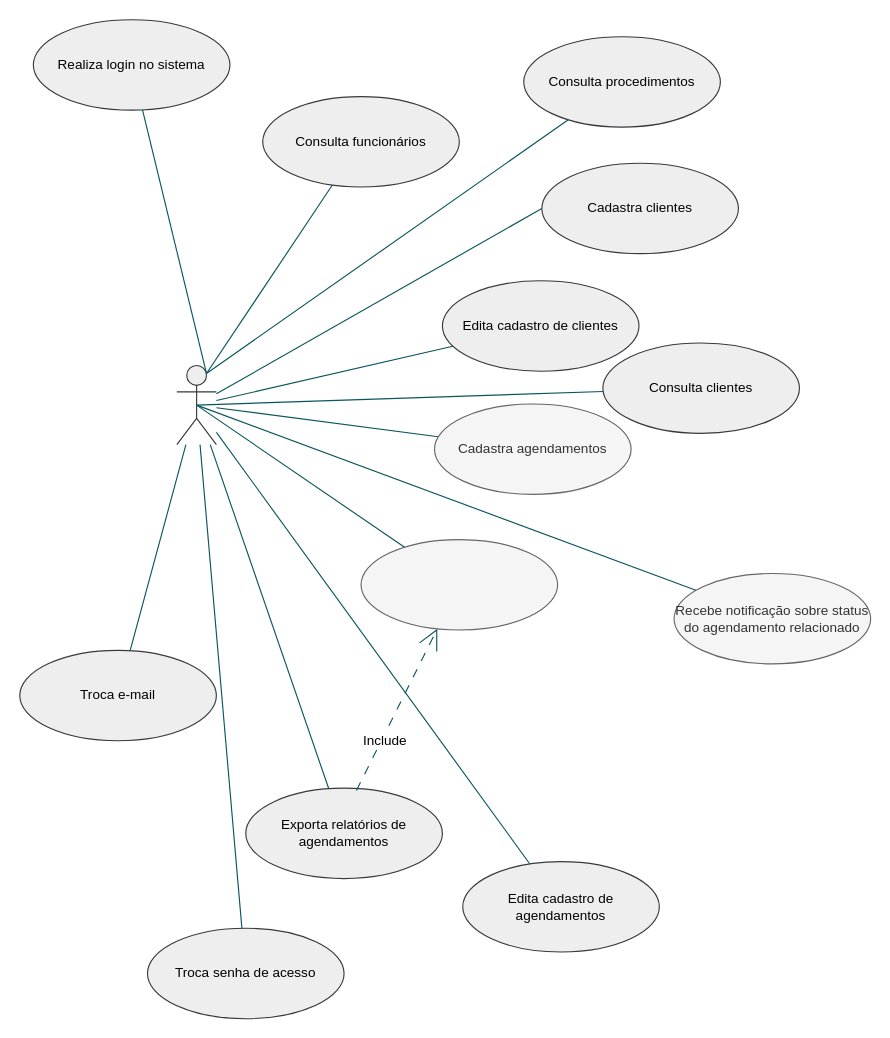
Image size: 890x1038. Some labels were removed from this diagram. Here are the shapes that lost their labels. From the top down, the box of each, then its label:
(176, 364, 216, 445): Funcionário
(360, 538, 558, 630): Consulta agendamentos
